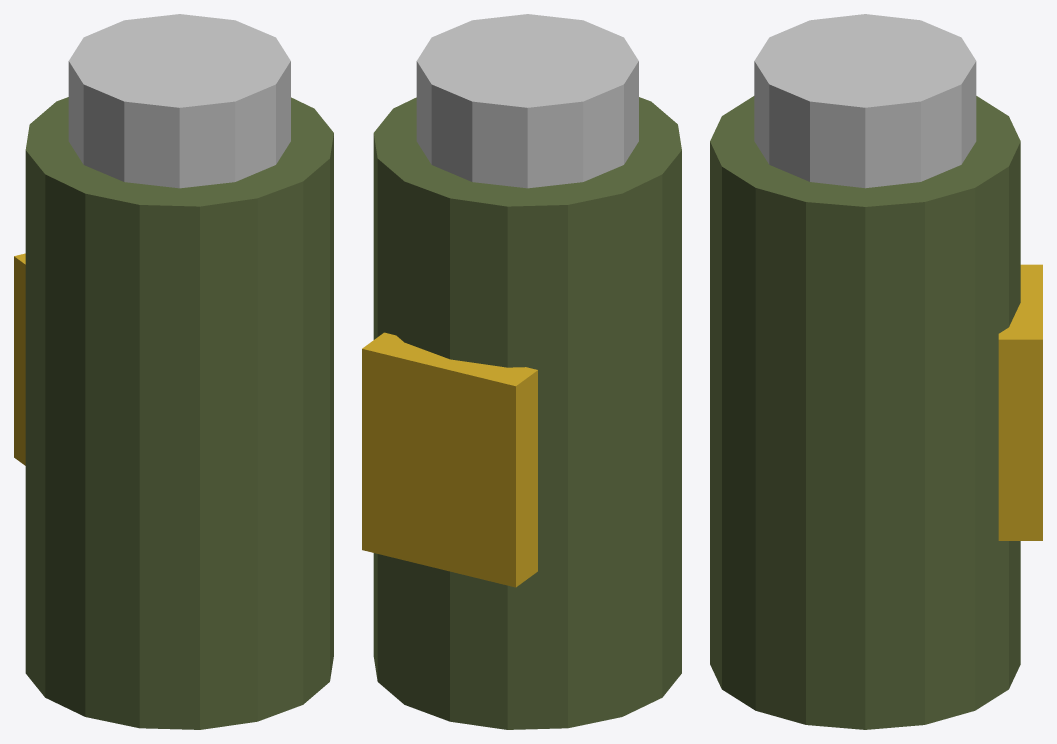
The model's file is advanced_propellant.obj.
3 views of the same model, side by side, from view 1: azimuth 30°, elevation 25°; view 2: azimuth 150°, elevation 25°; view 3: azimuth 270°, elevation 25° (orthographic).
Parts seen in each view (by area): view 1: advanced_propellant; view 2: advanced_propellant; view 3: advanced_propellant.
Part boxes in pixels (x1,y1,x2,y2): advanced_propellant: (14,14,333,729); advanced_propellant: (362,14,681,729); advanced_propellant: (710,14,1042,729).
Bounding box in the file's own units: 0.14 × 0.3 × 0.15.
